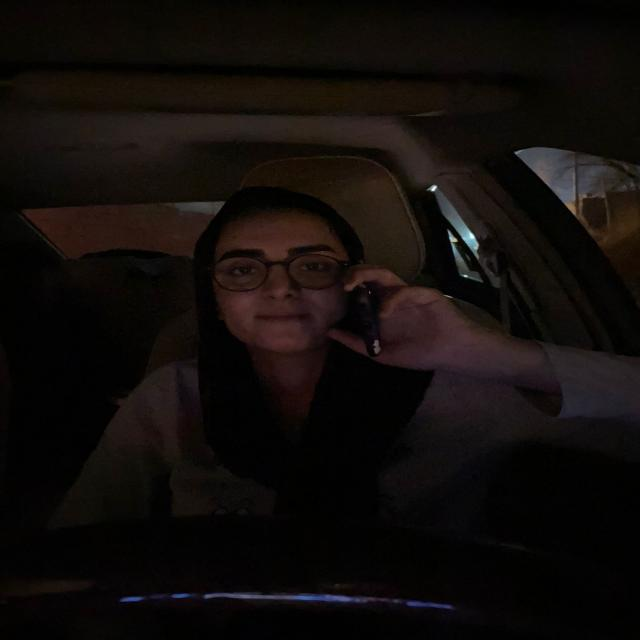mobile: (341, 279, 402, 356)
person: (205, 196, 348, 351)
